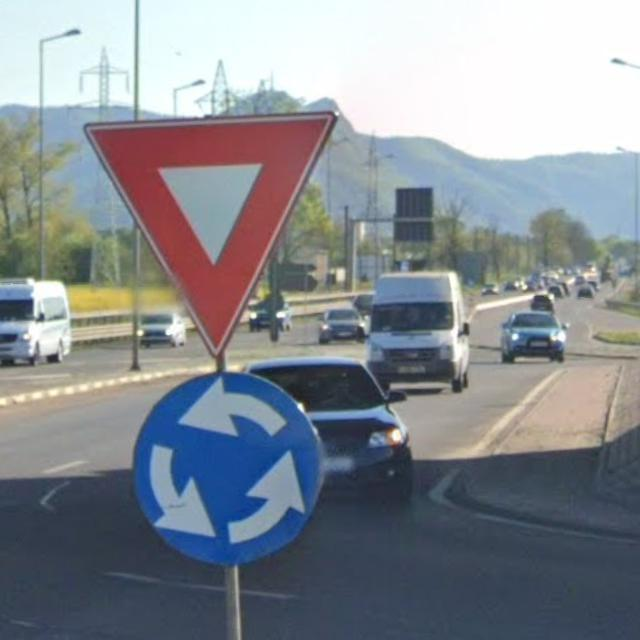prio_give_way: (78, 112, 326, 356)
